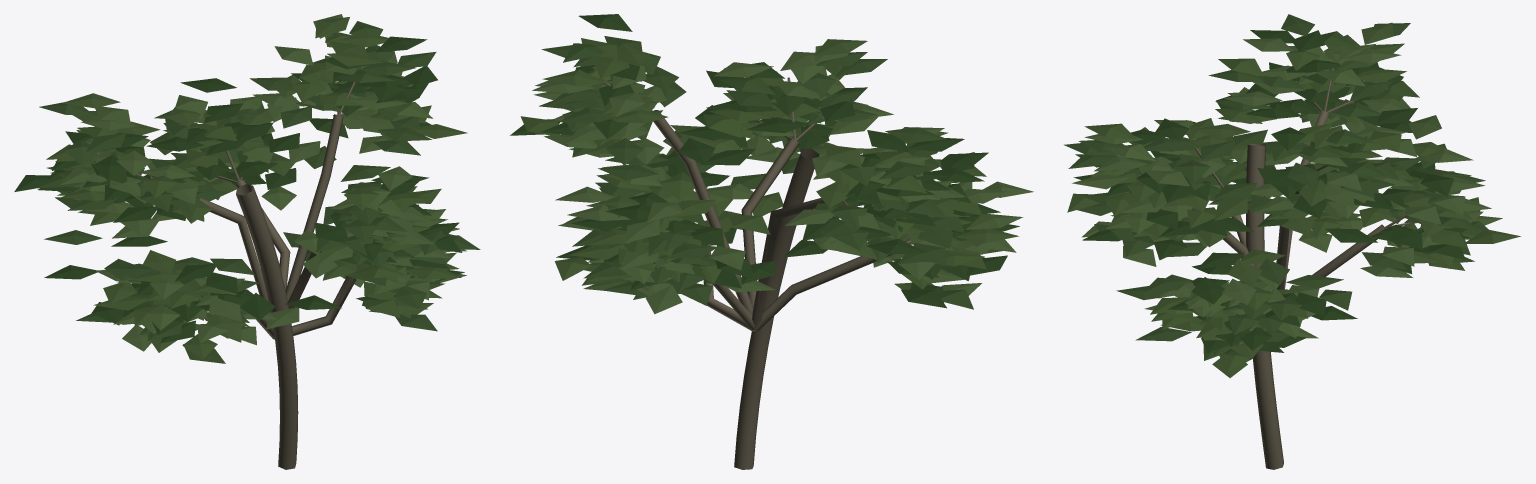
The model's file is prop_tropical_tree_b.glb.
3 views of the same model, side by side, from view 1: azimuth 30°, elevation 25°; view 2: azimuth 150°, elevation 25°; view 3: azimuth 270°, elevation 25° (orthographic). The views are drawn at different scales.
Parts seen in each view (by area): view 1: directed_leaf_sprays, tapered_wind_trunk; view 2: directed_leaf_sprays, tapered_wind_trunk; view 3: directed_leaf_sprays, tapered_wind_trunk.
Boxes of the visible parts, left/top/right/bottom form: directed_leaf_sprays: left=14, top=14, right=480, bottom=363; tapered_wind_trunk: left=96, top=66, right=369, bottom=469; directed_leaf_sprays: left=510, top=14, right=1033, bottom=314; tapered_wind_trunk: left=603, top=77, right=911, bottom=469; directed_leaf_sprays: left=1064, top=14, right=1520, bottom=377; tapered_wind_trunk: left=1137, top=57, right=1416, bottom=469.
Bounding box in the file's own units: 15.8 × 15.13 × 16.02.
